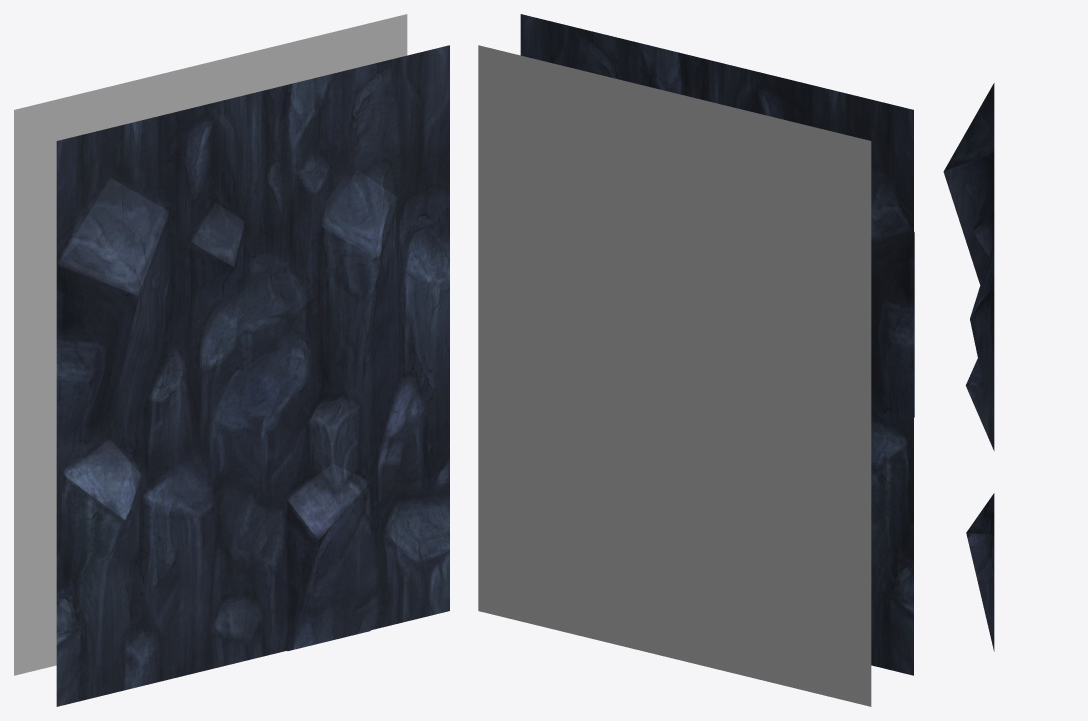
File: mine_wall_straight_01.fbx
The picture shows the model from 3 angles, left to right: view 1: azimuth 30°, elevation 25°; view 2: azimuth 150°, elevation 25°; view 3: azimuth 270°, elevation 25°; orthographic projection. The views are drawn at different scales.
Visible parts, largest first — view 1: mine_wall_straight_01-0; view 2: mine_wall_straight_01-0; view 3: mine_wall_straight_01-0.
Boxes of the visible parts, <box> form: mine_wall_straight_01-0: <box>14,14,449,706</box>; mine_wall_straight_01-0: <box>478,14,914,706</box>; mine_wall_straight_01-0: <box>943,83,994,651</box>.
Bounding box in the file's own units: 4 × 5.5 × 1.25.
